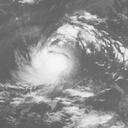cyclone: (21, 44, 75, 90)
